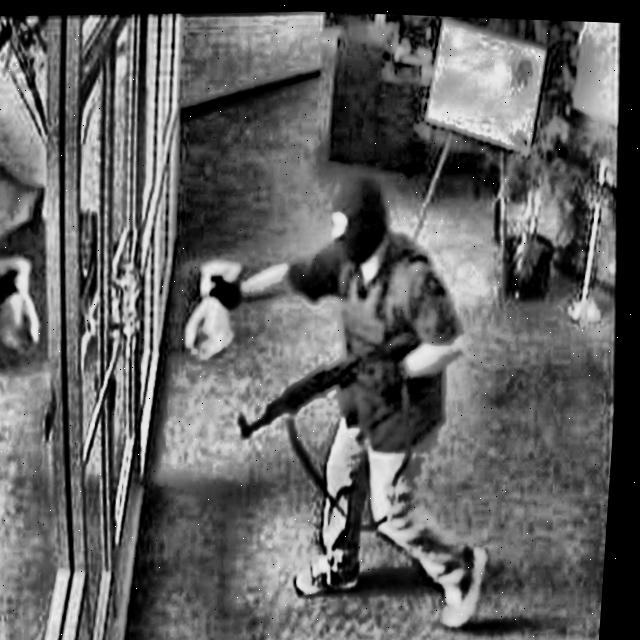robbery: (165, 163, 503, 638)
